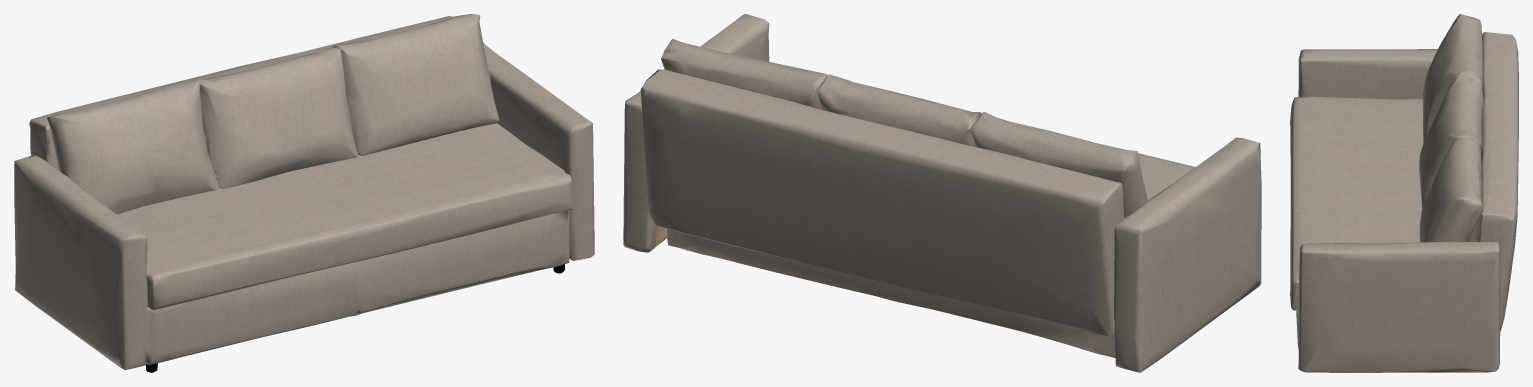
Rendered from FRIHETEN_90341151.glb.
3 views of the same model, side by side, from view 1: azimuth 30°, elevation 25°; view 2: azimuth 150°, elevation 25°; view 3: azimuth 270°, elevation 25° (orthographic). The views are drawn at different scales.
Parts seen in each view (by area): view 1: ProcessedMeshNode; view 2: ProcessedMeshNode; view 3: ProcessedMeshNode.
Part boxes in pixels (x1,y1,x2,y2): ProcessedMeshNode: (14, 14, 594, 372); ProcessedMeshNode: (623, 14, 1261, 372); ProcessedMeshNode: (1290, 14, 1518, 372).
Size of the model in its own units: 2.27 by 0.886 by 1.05.
1 material, 1 textured.
